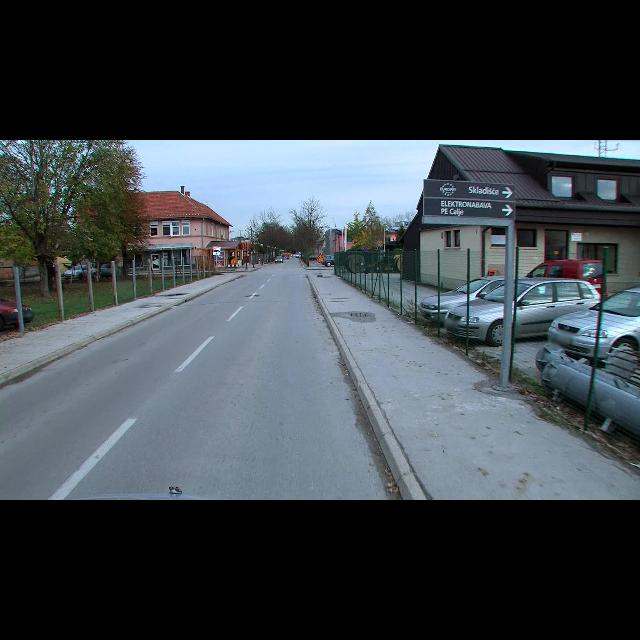Multi-inform: (424, 180, 516, 220)
